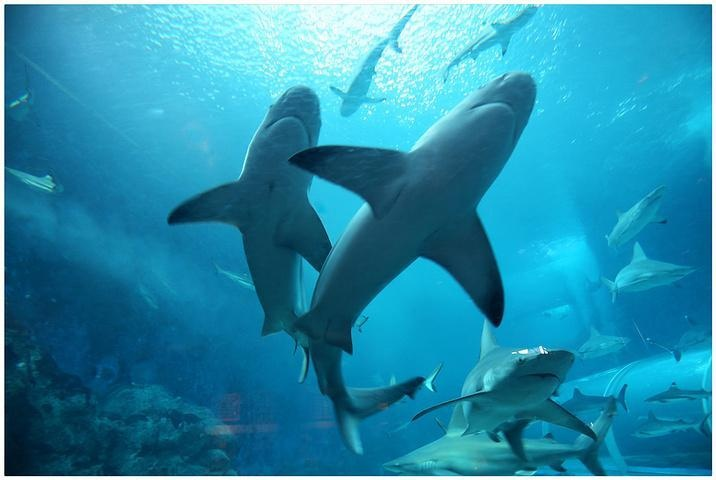fish: (292, 68, 556, 455), (155, 86, 339, 363), (405, 326, 598, 462)
